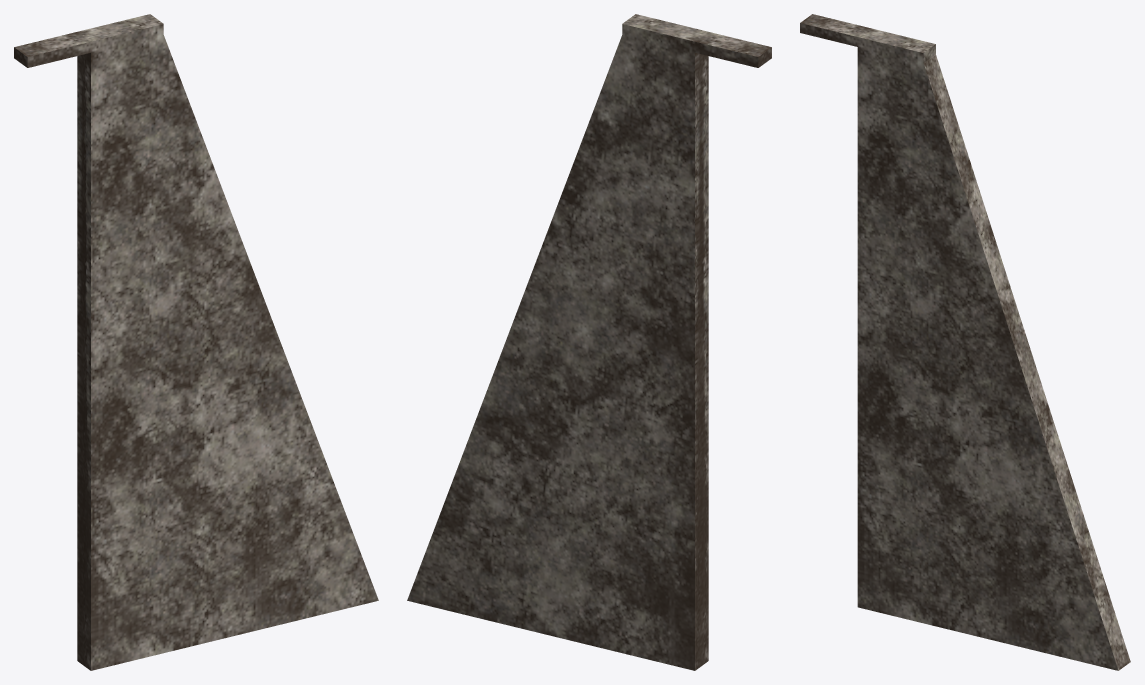
The model's file is base_puertabidones.obj.
3 views of the same model, side by side, from view 1: azimuth 30°, elevation 25°; view 2: azimuth 150°, elevation 25°; view 3: azimuth 330°, elevation 25° (orthographic). The views are drawn at different scales.
Parts seen in each view (by area): view 1: soportepuertabidones; view 2: soportepuertabidones; view 3: soportepuertabidones.
Boxes of the visible parts, <box> form: soportepuertabidones: <box>14,14,378,670</box>; soportepuertabidones: <box>407,14,771,670</box>; soportepuertabidones: <box>800,14,1130,670</box>.
Size of the model in its own units: 10.38 by 17.77 by 0.6936.
Materials: 1 (1 with a texture image).
